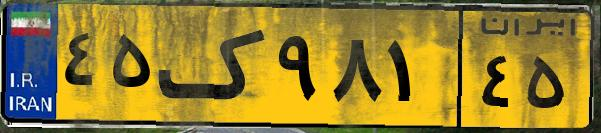1: (385, 28, 445, 110)
4: (57, 26, 110, 100), (475, 38, 525, 113)
5: (525, 38, 570, 115), (110, 28, 158, 98)
8: (330, 28, 385, 110)
9: (270, 28, 330, 110)
ک: (158, 12, 270, 120)
